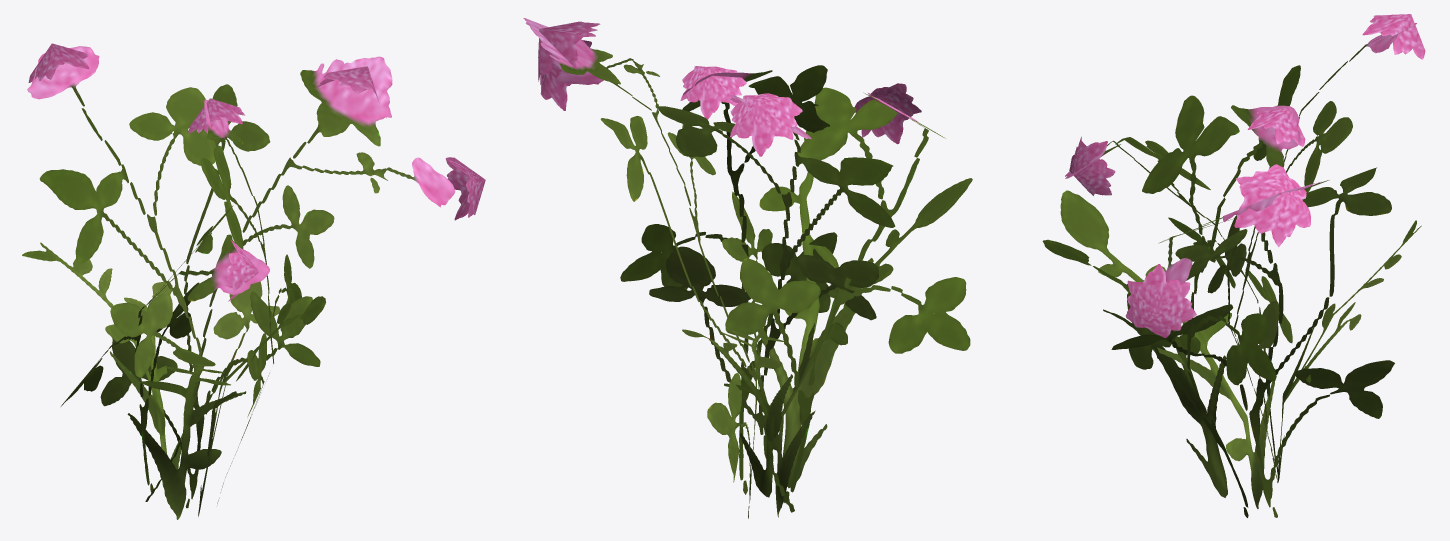
The model's file is lawn_clover.glb.
The picture shows the model from 3 angles, left to right: view 1: azimuth 30°, elevation 25°; view 2: azimuth 150°, elevation 25°; view 3: azimuth 270°, elevation 25°; orthographic projection. The views are drawn at different scales.
Visible parts, largest first — view 1: PW_LawnGrass_CloverFlower; view 2: PW_LawnGrass_CloverFlower; view 3: PW_LawnGrass_CloverFlower.
Part boxes in pixels (left/top/right/bottom): PW_LawnGrass_CloverFlower: left=22, top=43, right=485, bottom=519; PW_LawnGrass_CloverFlower: left=523, top=18, right=972, bottom=518; PW_LawnGrass_CloverFlower: left=1042, top=14, right=1425, bottom=517.
Size of the model in its own units: 0.3766 by 0.4 by 0.3076.
1 material, 1 textured.
